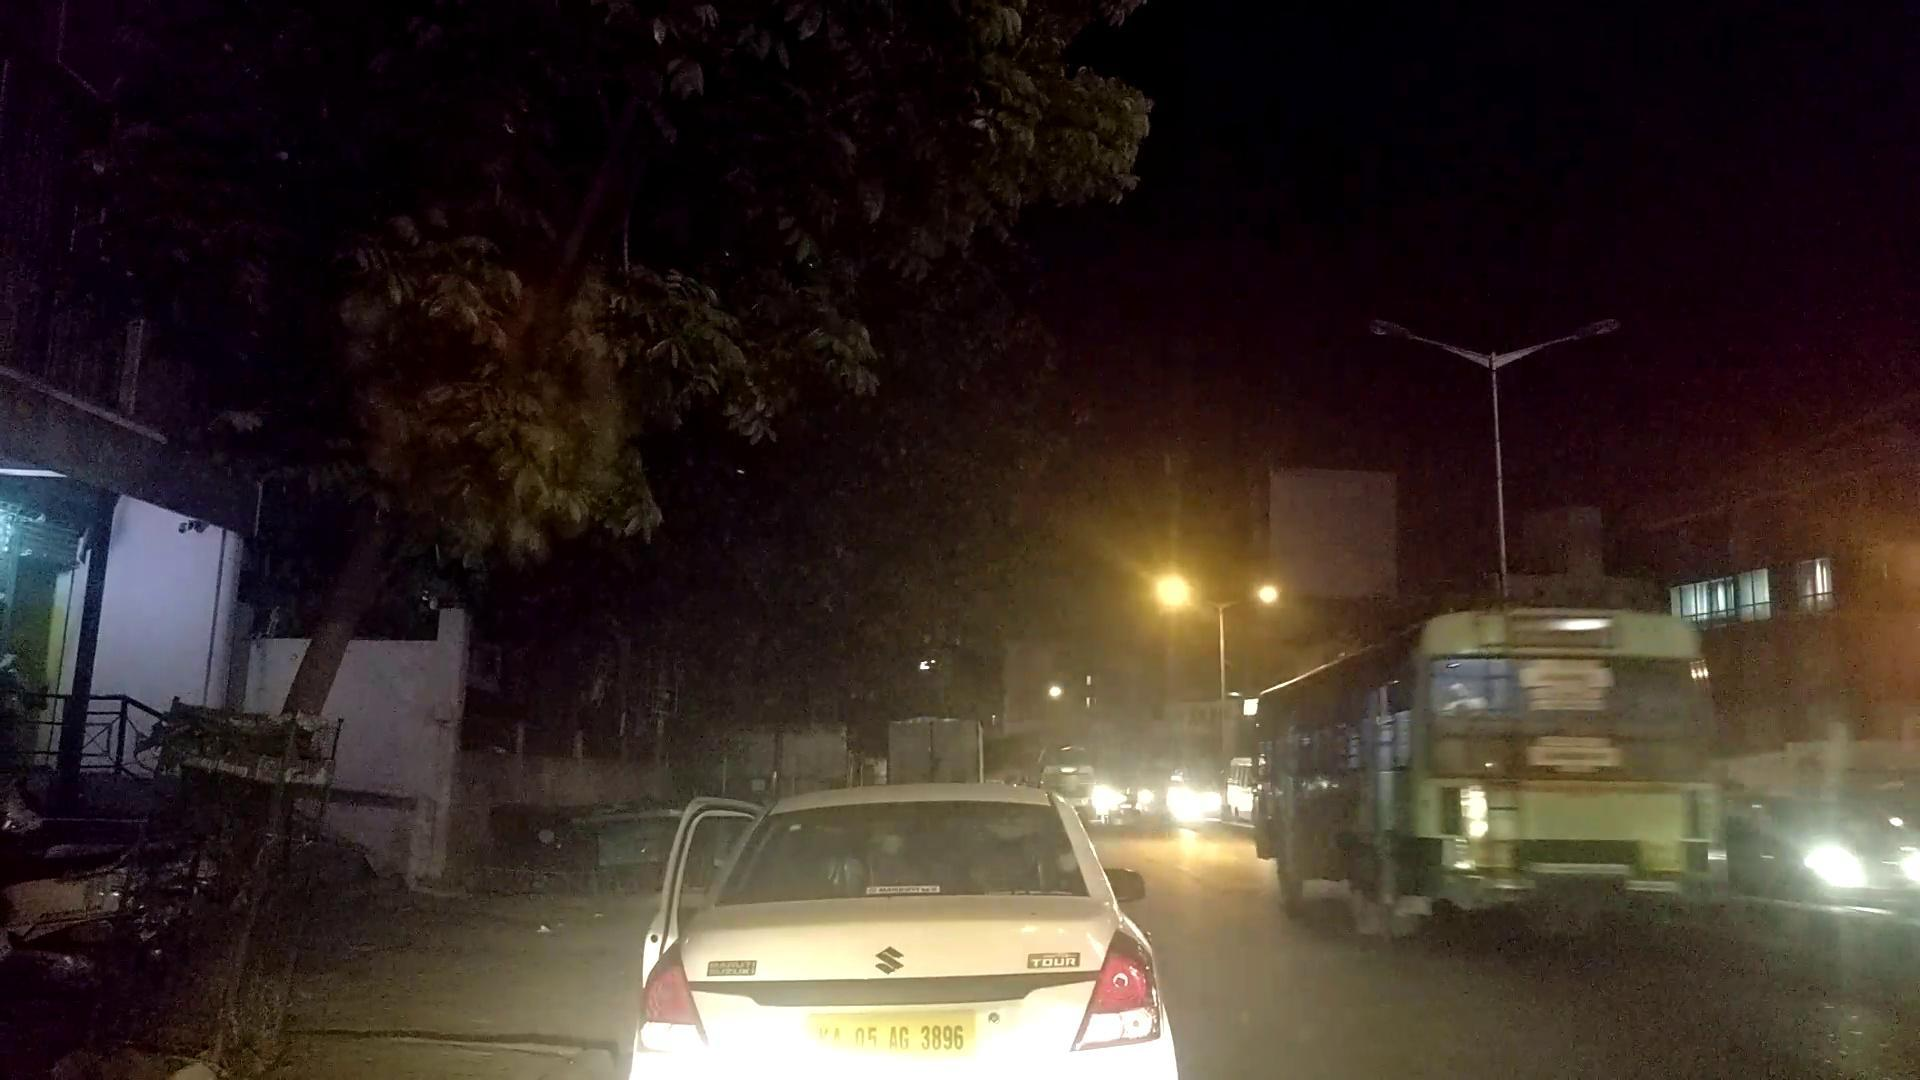on: (940, 392, 1535, 899)
